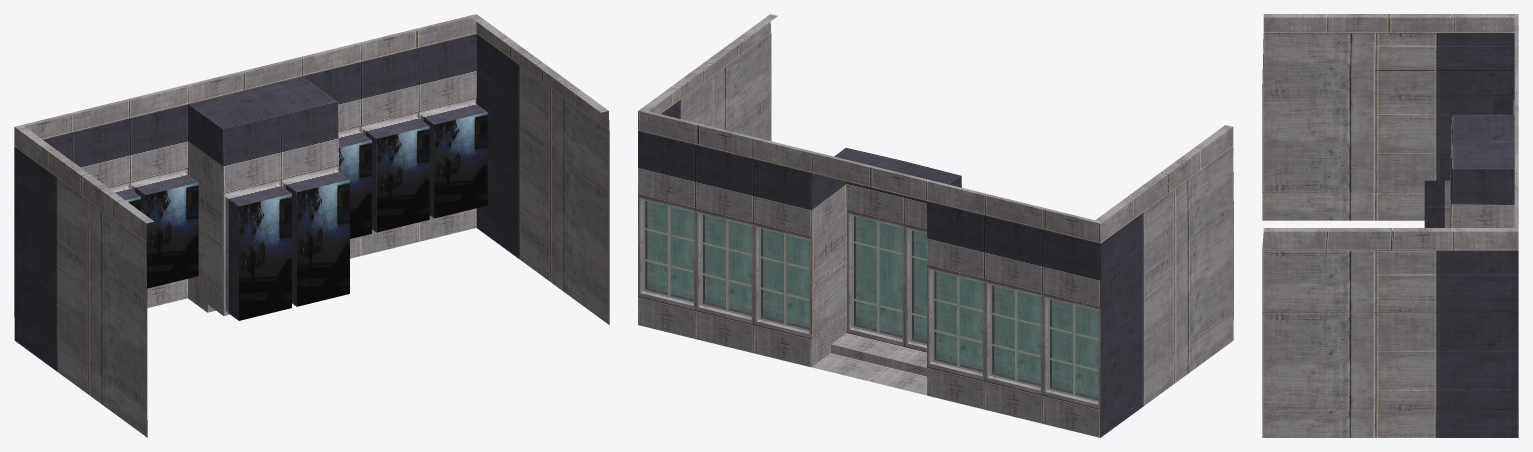
The model's file is Building_08_Part_1.fbx.
3 views of the same model, side by side, from view 1: azimuth 30°, elevation 25°; view 2: azimuth 150°, elevation 25°; view 3: azimuth 270°, elevation 25° (orthographic). The views are drawn at different scales.
Parts seen in each view (by area): view 1: Building_08_Part_1; view 2: Building_08_Part_1; view 3: Building_08_Part_1.
Part boxes in pixels (box(x1,y1,x2,y2)): Building_08_Part_1: box(14, 14, 609, 437); Building_08_Part_1: box(638, 14, 1233, 437); Building_08_Part_1: box(1262, 14, 1518, 437).
Size of the model in its own units: 1436 by 635 by 715.
